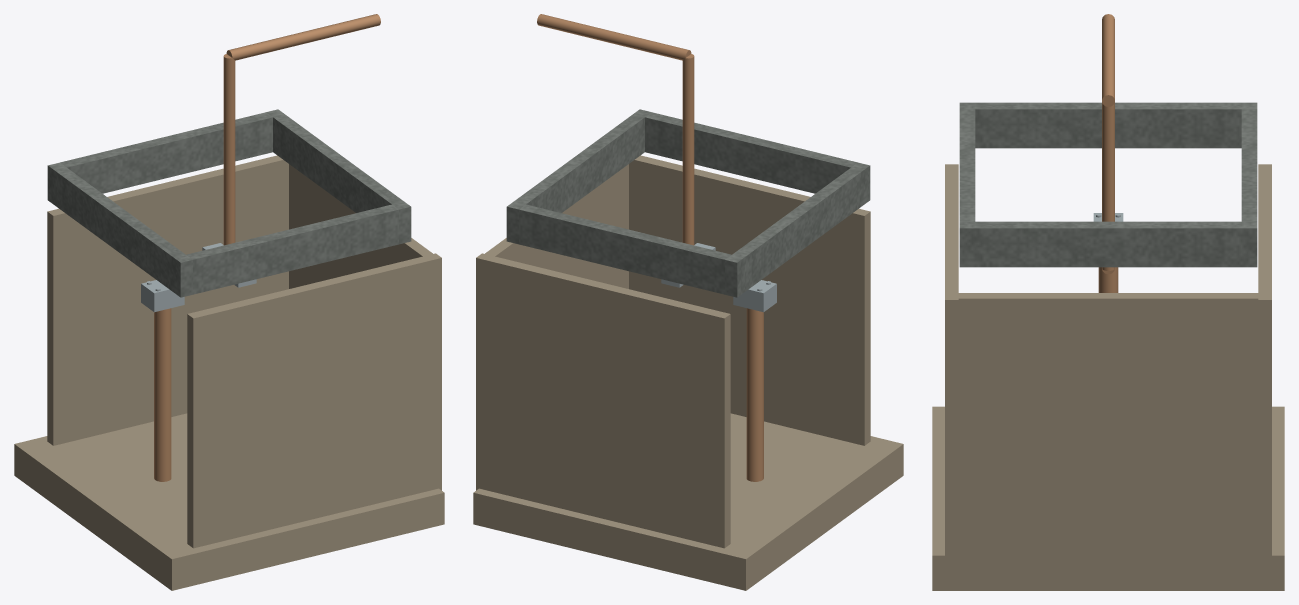
The model's file is mine-earth-section.glb.
3 renders of one model, left to right at view 1: azimuth 30°, elevation 25°; view 2: azimuth 150°, elevation 25°; view 3: azimuth 270°, elevation 25°, orthographic. The views are drawn at different scales.
Parts seen in each view (by area): view 1: earth-section__cutaway__Protection_soil, earth-section__main__Protection_concrete, earth-section__main__Protection_copper, earth-section__main__Protection_metal; view 2: earth-section__cutaway__Protection_soil, earth-section__main__Protection_concrete, earth-section__main__Protection_copper, earth-section__main__Protection_metal; view 3: earth-section__cutaway__Protection_soil, earth-section__main__Protection_concrete, earth-section__main__Protection_copper.
Part boxes in pixels (left/top/right/bottom): earth-section__cutaway__Protection_soil: left=14, top=155, right=444, bottom=590; earth-section__main__Protection_concrete: left=47, top=109, right=411, bottom=297; earth-section__main__Protection_copper: left=154, top=14, right=380, bottom=481; earth-section__main__Protection_metal: left=141, top=243, right=256, bottom=312; earth-section__cutaway__Protection_soil: left=473, top=155, right=903, bottom=590; earth-section__main__Protection_concrete: left=506, top=109, right=870, bottom=297; earth-section__main__Protection_copper: left=537, top=14, right=763, bottom=481; earth-section__main__Protection_metal: left=661, top=243, right=776, bottom=312; earth-section__cutaway__Protection_soil: left=932, top=164, right=1284, bottom=590; earth-section__main__Protection_concrete: left=959, top=102, right=1257, bottom=267; earth-section__main__Protection_copper: left=1098, top=14, right=1118, bottom=292.
Bounding box in the file's own units: 0.94 × 1.42 × 0.9.
4 materials, 1 textured.
